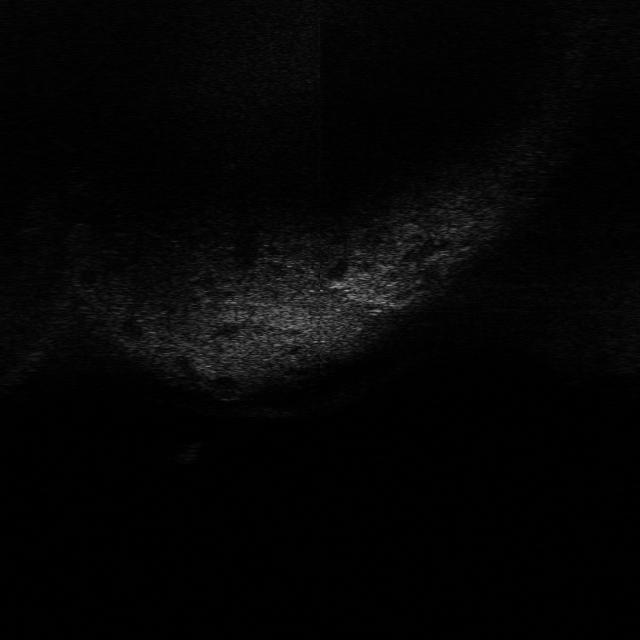cylinder: (170, 438, 202, 464)
